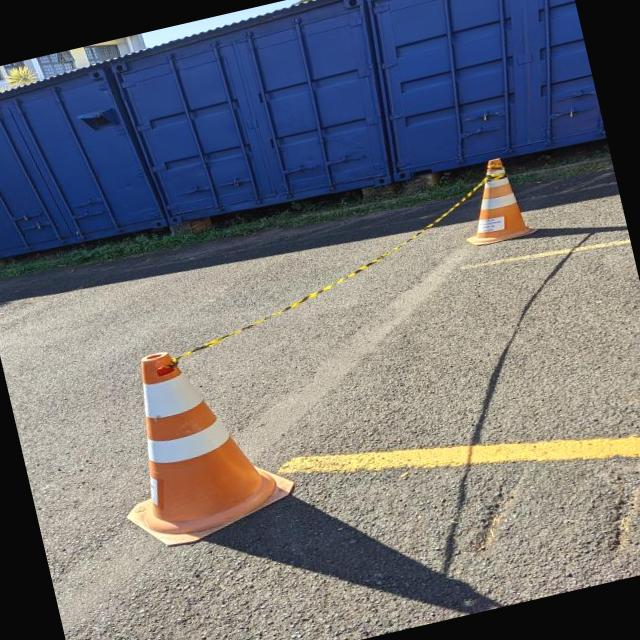Cone: (87, 324, 308, 559), (445, 148, 545, 251)
